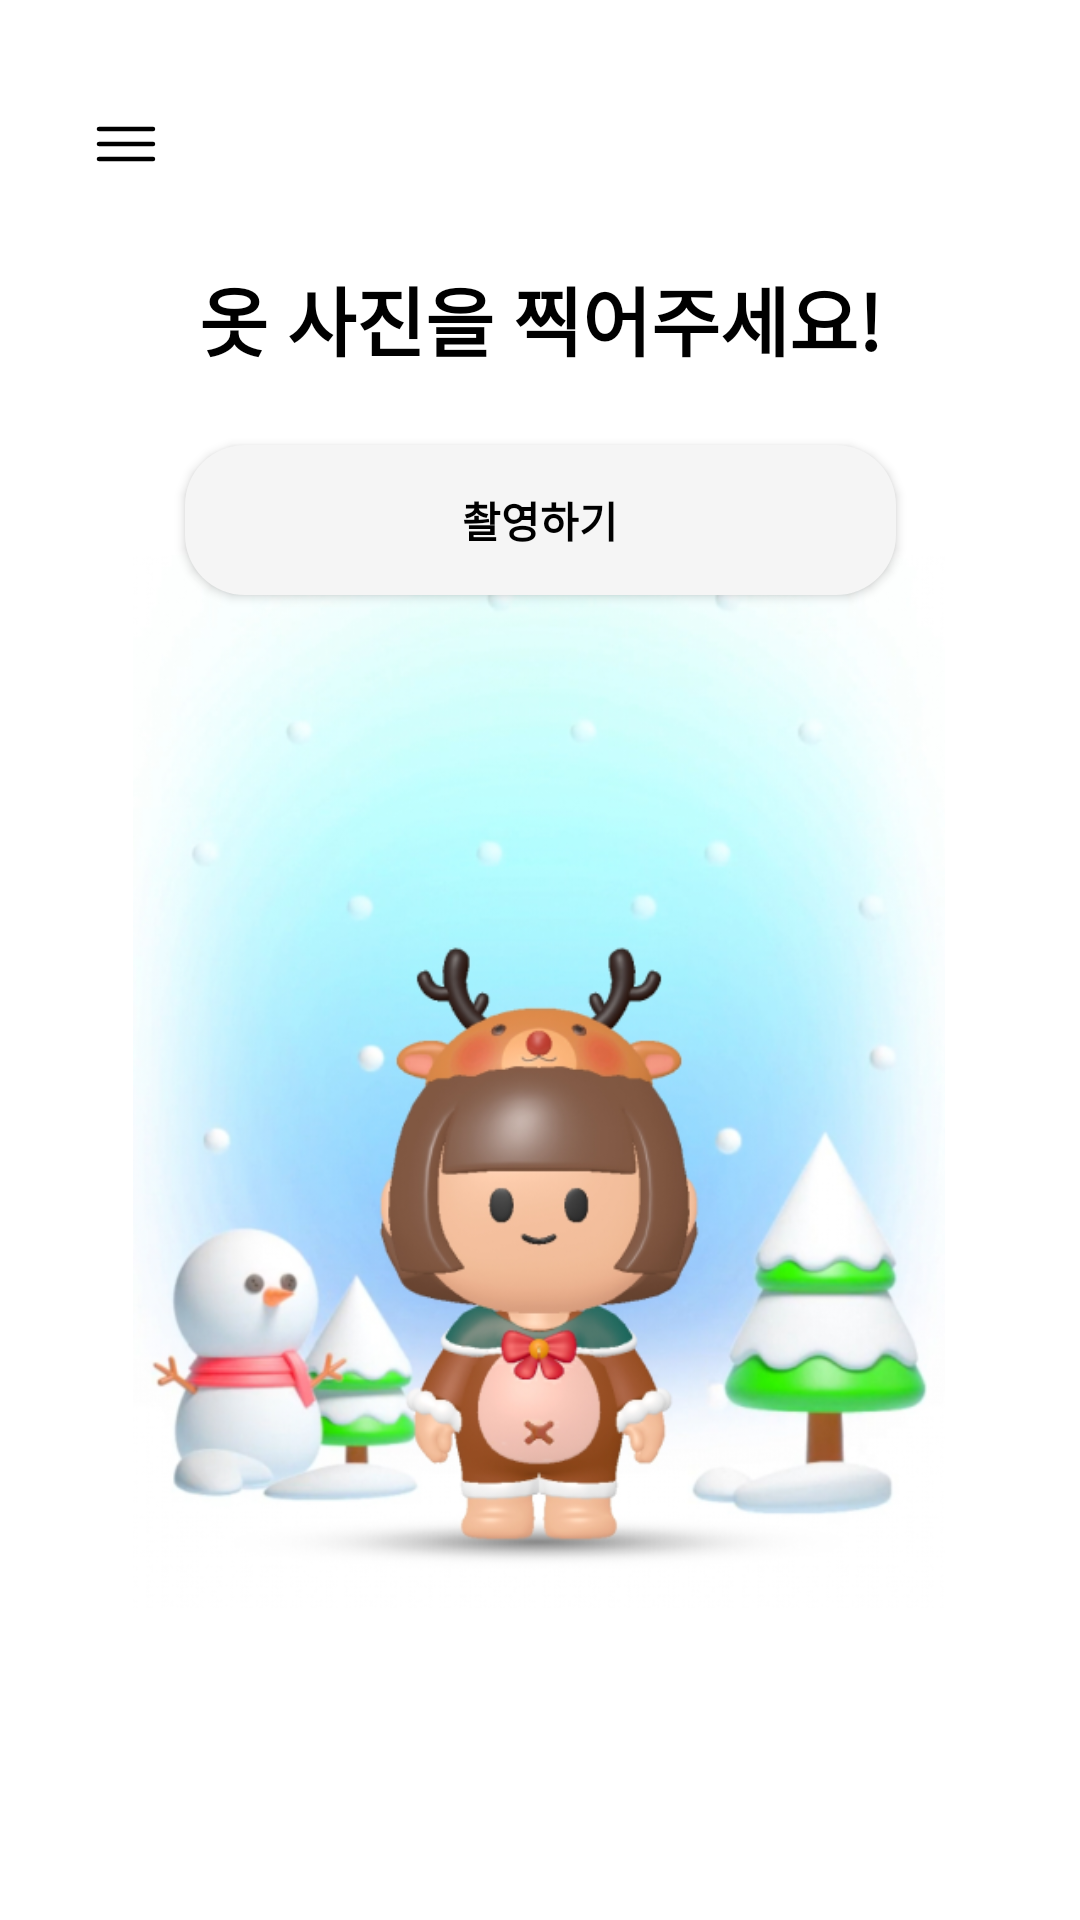

Named icons in this screenshot (1080×1920) and their bounding boxes, (x1, y1, x2, y2):
hamburger menu: (96, 126, 155, 162)
